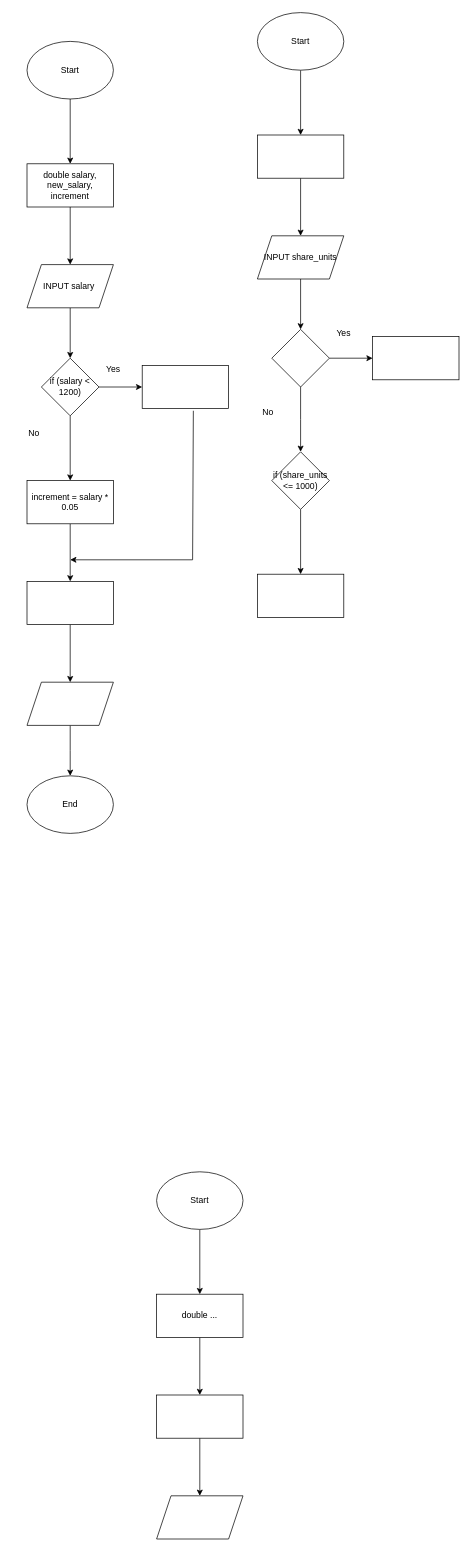
This 472x1552 diagram has some shape labels left out. Here are the shapes that lost their labels. From the top down, the centre of each, then its label:
(x=300, y=156): double dividend_entitles
(x=300, y=358): if (share_units <= 500)
(x=185, y=387): increment = salary * 0.10
(x=69, y=603): new_salary = salary + increment
(x=69, y=703): Print = salary
